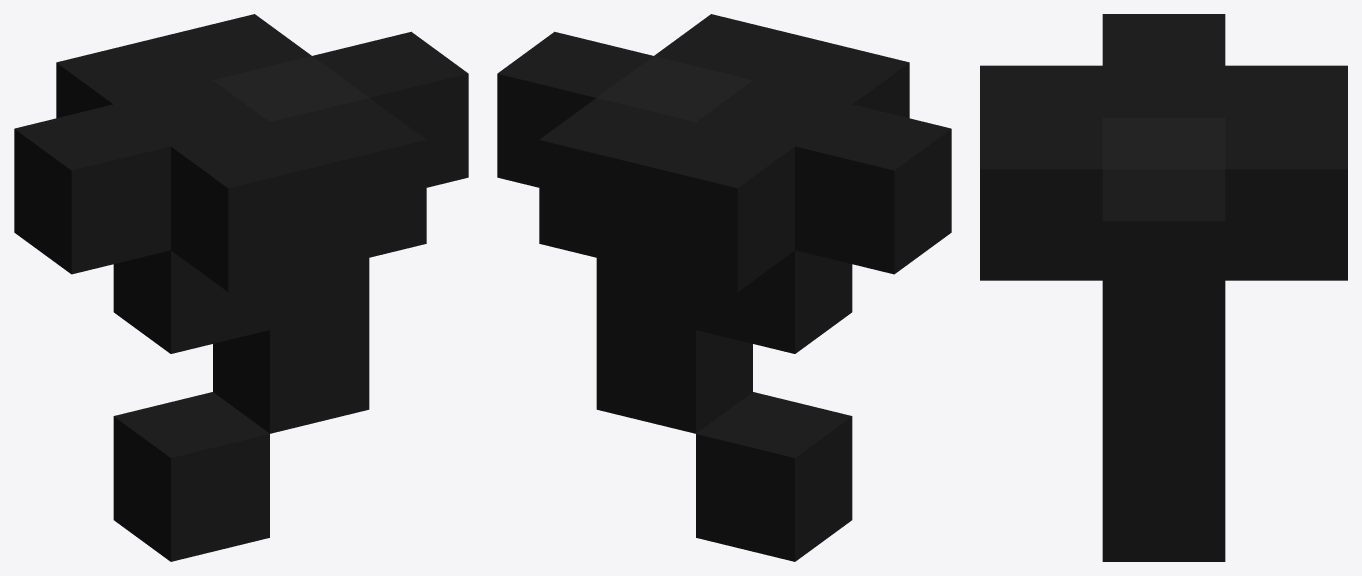
The model's file is TriggerG43.fbx.
The picture shows the model from 3 angles, left to right: view 1: azimuth 30°, elevation 25°; view 2: azimuth 150°, elevation 25°; view 3: azimuth 270°, elevation 25°; orthographic projection. The views are drawn at different scales.
Visible parts, largest first — view 1: TriggerG43.001; view 2: TriggerG43.001; view 3: TriggerG43.001.
Part boxes in pixels (x1=…): TriggerG43.001: x1=14, y1=14, x2=468, y2=561; TriggerG43.001: x1=497, y1=14, x2=951, y2=561; TriggerG43.001: x1=980, y1=14, x2=1347, y2=561.
Bounding box in the file's own units: 0.4 × 0.4 × 0.3.
1 material, 1 textured.
